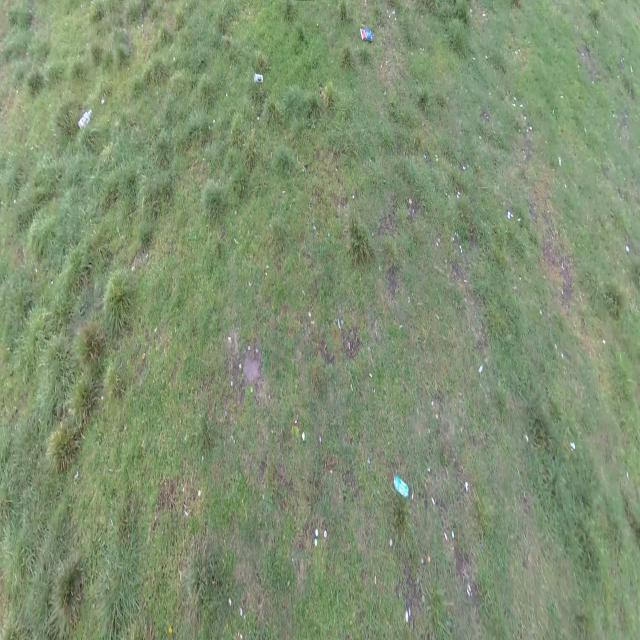rubbish: (78, 106, 93, 132), (393, 474, 408, 495), (360, 29, 373, 39), (254, 73, 263, 82)
